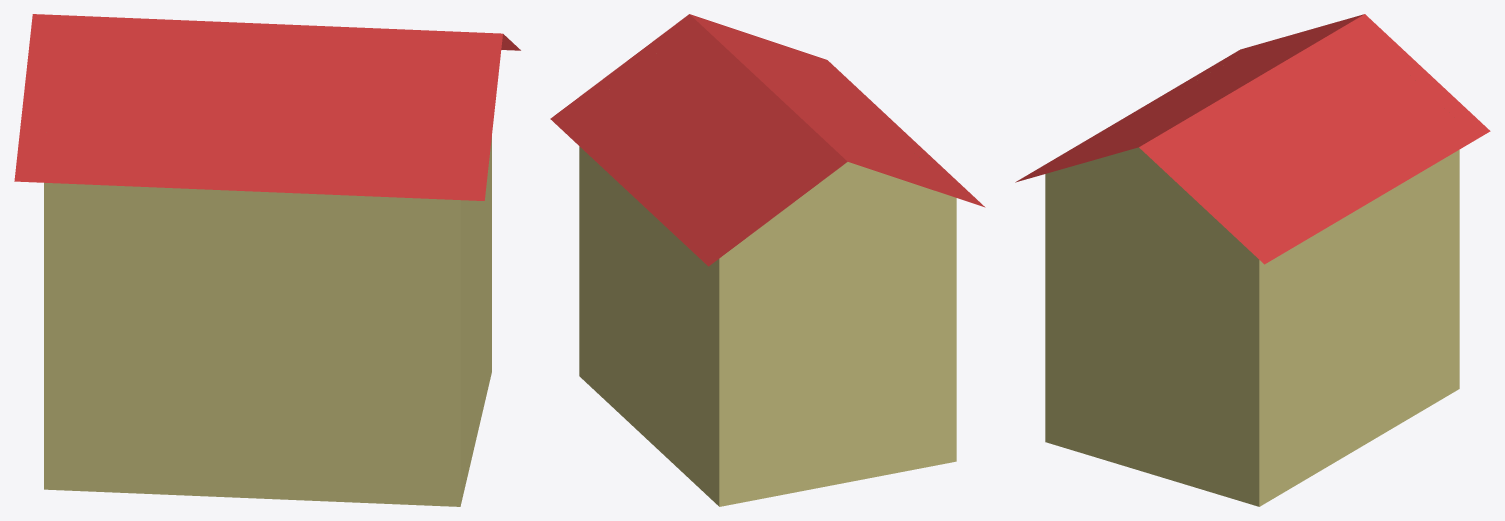
3 views of the same model, side by side, from view 1: azimuth 30°, elevation 25°; view 2: azimuth 150°, elevation 25°; view 3: azimuth 270°, elevation 25° (orthographic). The views are drawn at different scales.
Bounding box in the file's own units: 16.71 × 16.09 × 12.47.
